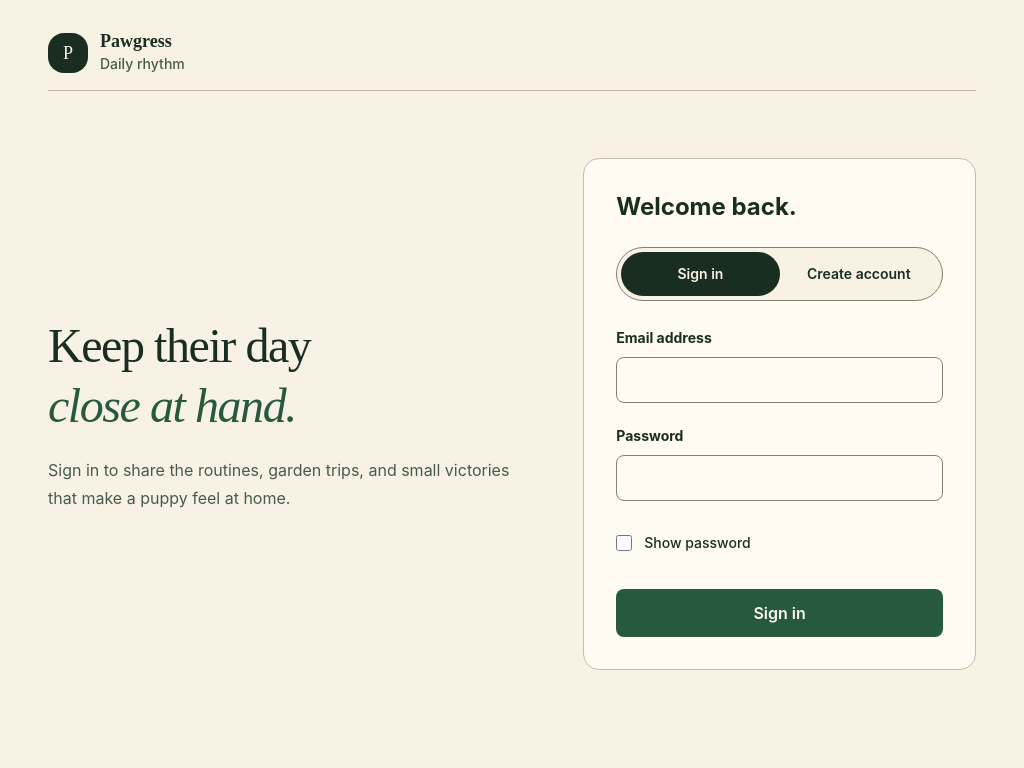
Scenario: Login form › rejects email addresses containing more than one at-sign
The width and height of the screenshot is (1024, 768).
Type "puppy@@example.com" into the field labelled "Email address" at (780, 380), box [616,356,943,402]
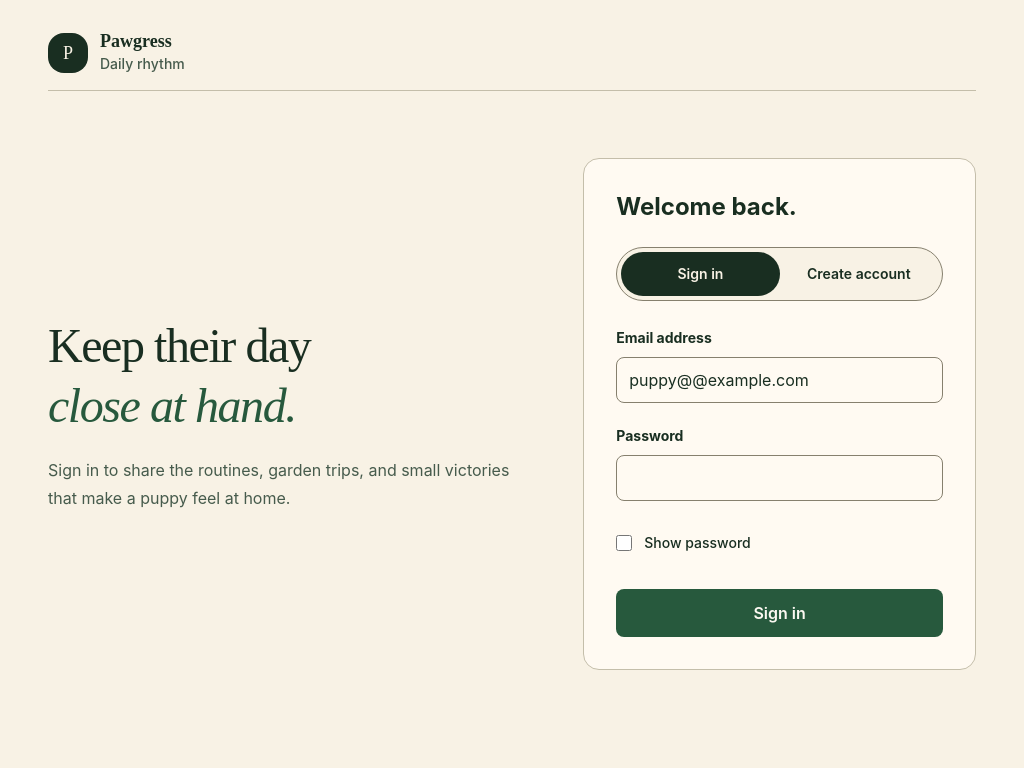
Type "long-enough" into the password field labelled "Password" at (780, 478), box [616,454,943,500]
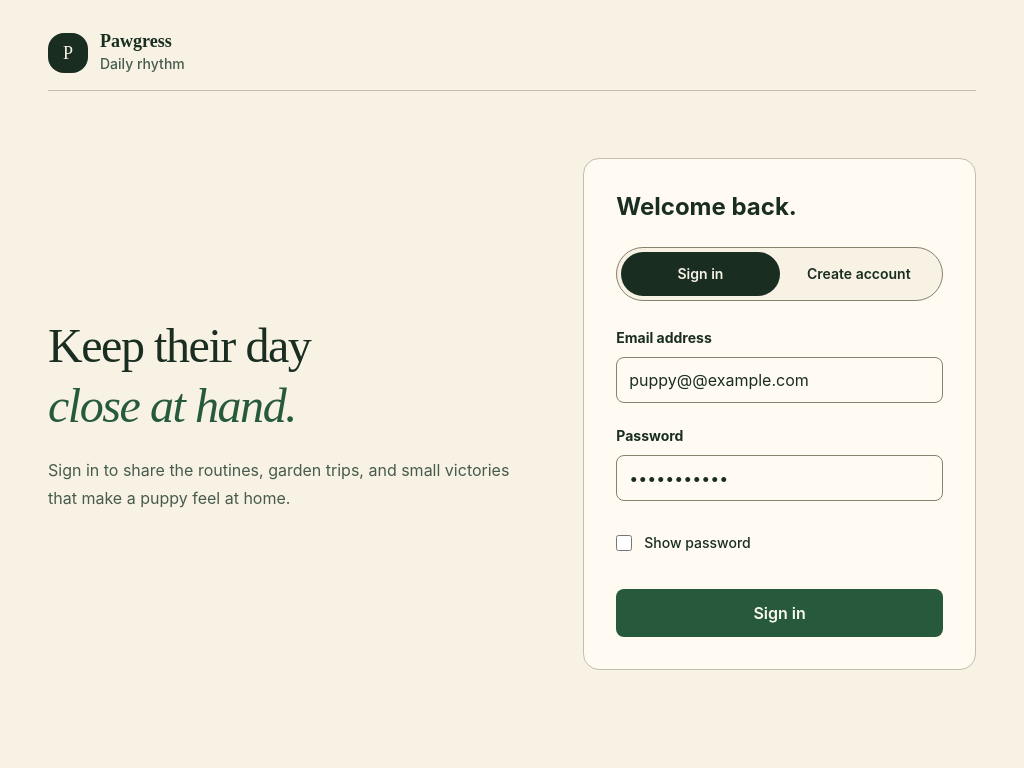
Submit the form "Sign in", box [616,324,943,636]
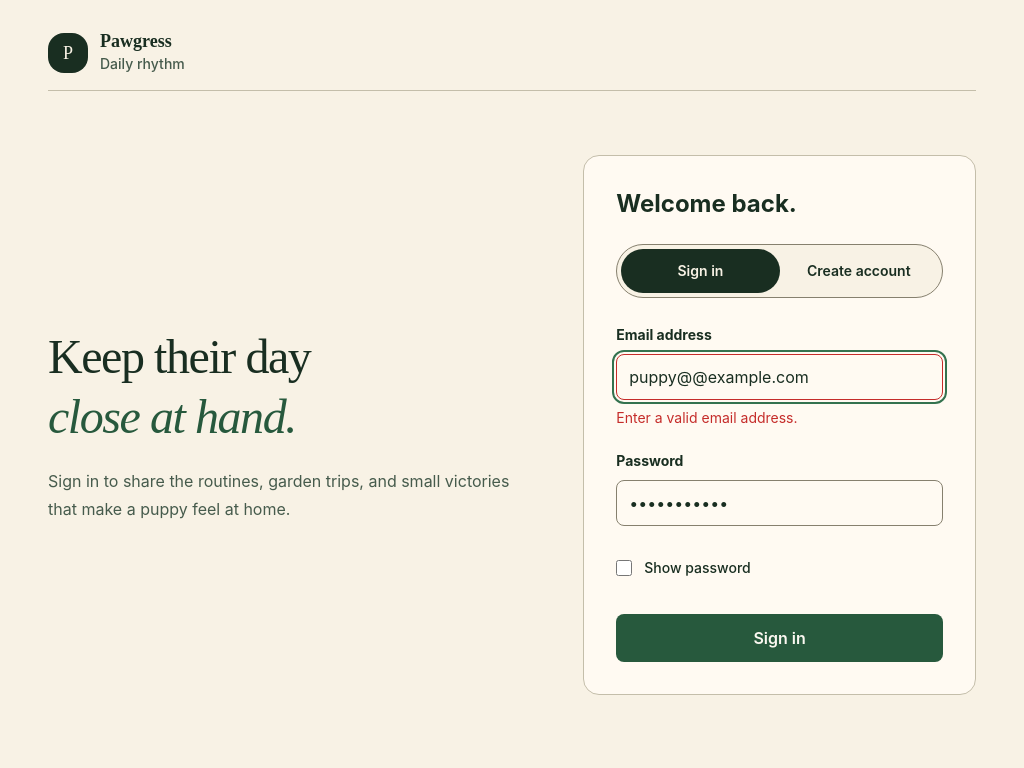
Now the text "Enter a valid email address." is shown, box [616,409,798,426]
